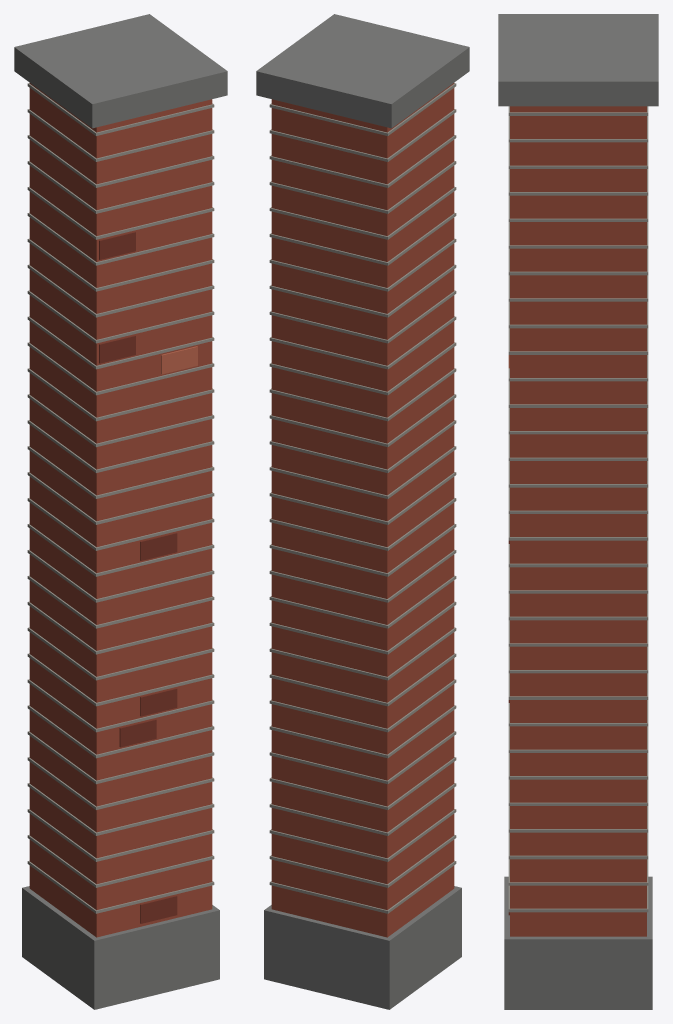
File: Mart_Wall_Corner.glb
3 renders of one model, left to right at view 1: azimuth 30°, elevation 25°; view 2: azimuth 150°, elevation 25°; view 3: azimuth 270°, elevation 25°, orthographic. The views are drawn at different scales.
Parts seen in each view (by area): view 1: Mart_Wall_Corner; view 2: Mart_Wall_Corner; view 3: Mart_Wall_Corner.
Part boxes in pixels (x1,y1,x2,y2): Mart_Wall_Corner: (14,14,227,1009); Mart_Wall_Corner: (256,14,469,1009); Mart_Wall_Corner: (498,14,658,1009).
Bounding box in the file's own units: 0.82 × 5.26 × 0.82.
1 material, 1 textured.
